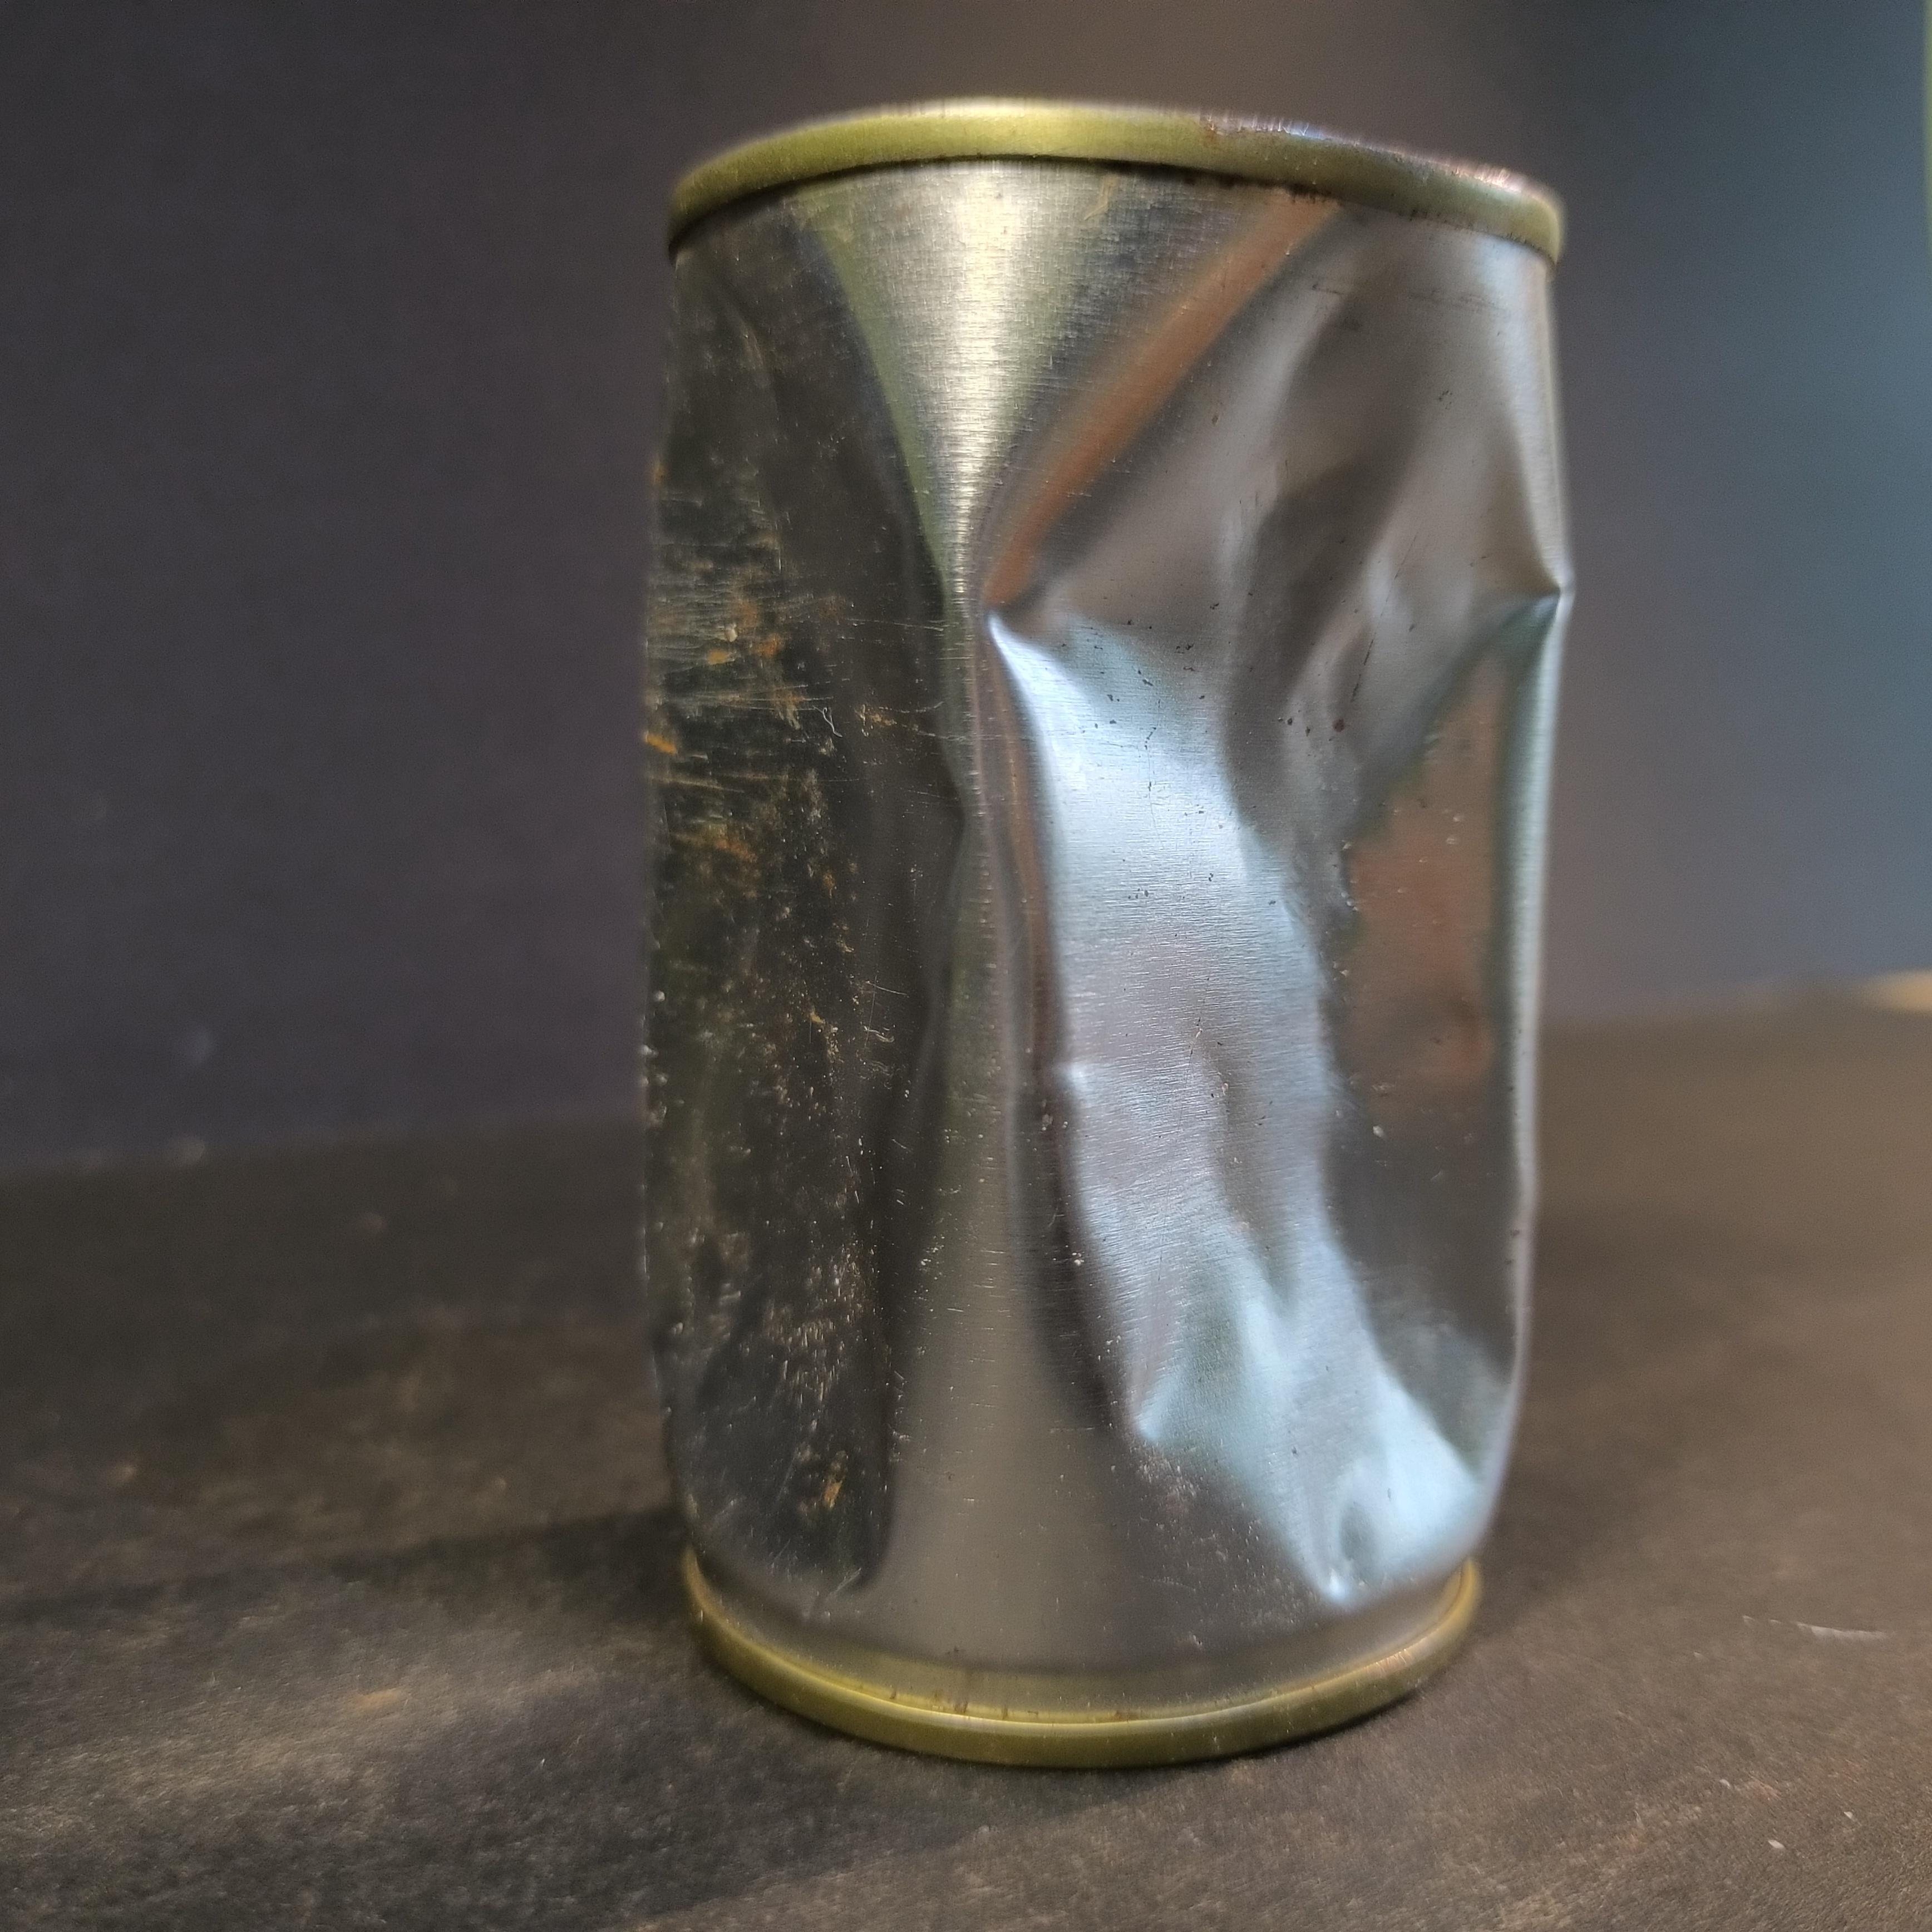Dented: (598, 53, 1603, 1780)
